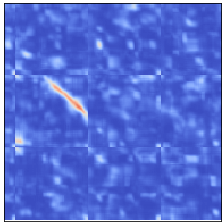action_path: (12, 75, 86, 149)
